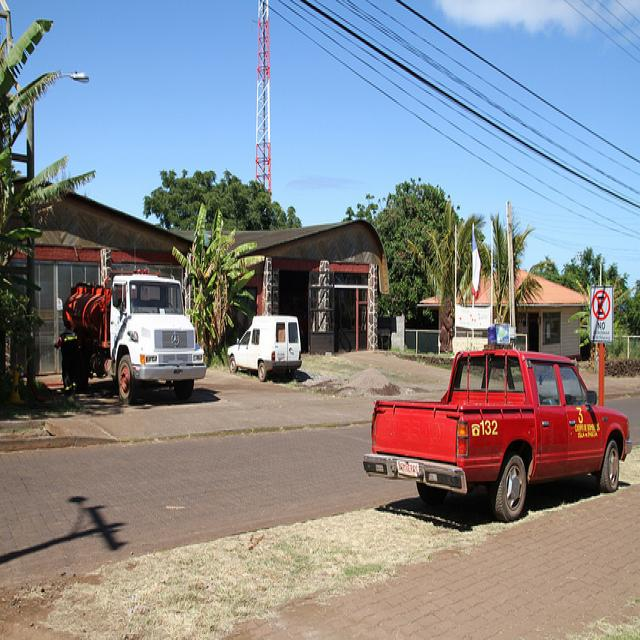Vehicle: (364, 350, 632, 522), (58, 245, 206, 407), (226, 320, 302, 374)
